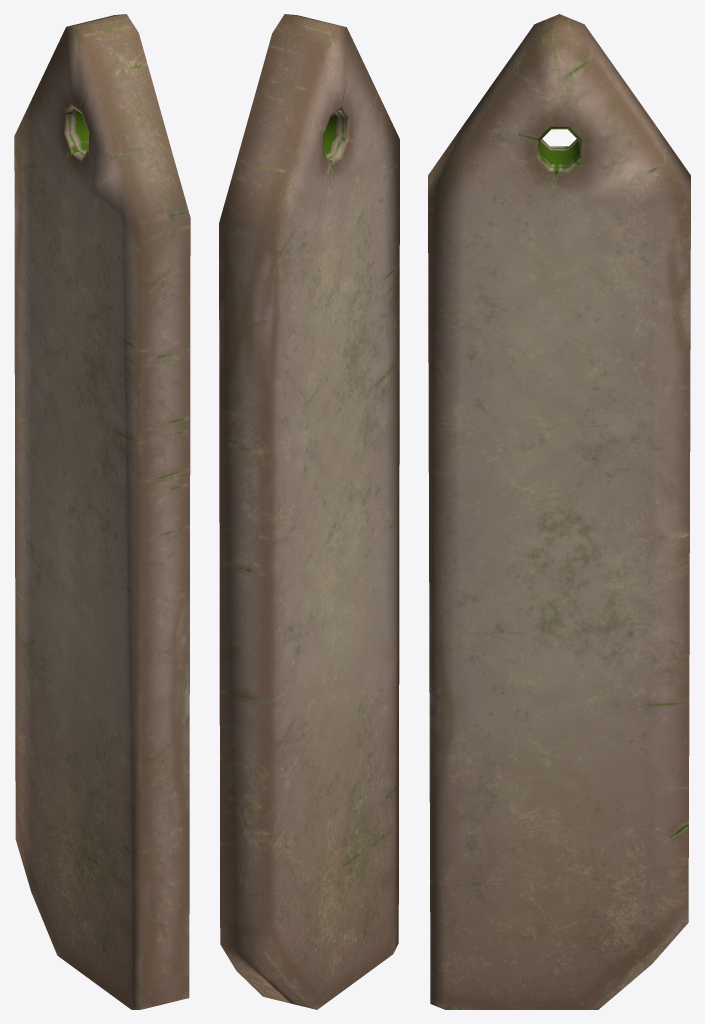
The model's file is Rune04_low_02.fbx.
The picture shows the model from 3 angles, left to right: view 1: azimuth 30°, elevation 25°; view 2: azimuth 150°, elevation 25°; view 3: azimuth 270°, elevation 25°; orthographic projection. The views are drawn at different scales.
Visible parts, largest first — view 1: Rune04_low2; view 2: Rune04_low2; view 3: Rune04_low2.
Part boxes in pixels (x1=…): Rune04_low2: x1=14, y1=14, x2=190, y2=1009; Rune04_low2: x1=219, y1=14, x2=399, y2=1009; Rune04_low2: x1=428, y1=14, x2=690, y2=1009.
Bounding box in the file's own units: 0.7 × 11.99 × 2.94.
1 material, 1 textured.
